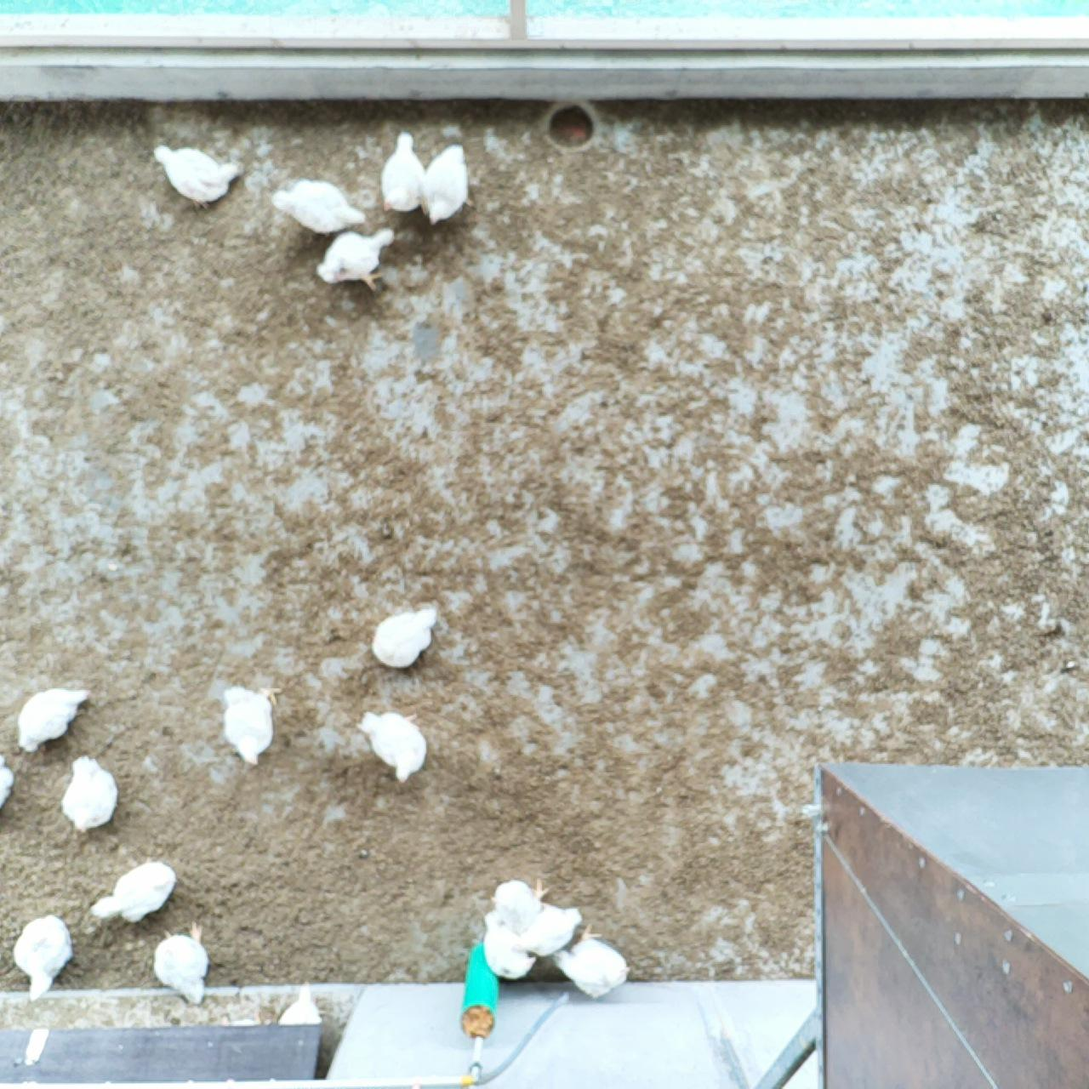chicken: (151, 143, 244, 212), (553, 924, 632, 1001), (11, 684, 97, 753), (89, 862, 181, 925), (11, 914, 75, 1004), (358, 707, 429, 788), (271, 178, 368, 237), (319, 222, 399, 293), (222, 683, 284, 770), (153, 921, 212, 1009), (60, 754, 120, 833), (422, 140, 474, 229), (481, 907, 542, 982), (371, 606, 438, 670), (512, 903, 586, 959), (381, 130, 428, 216), (489, 876, 552, 938), (0, 750, 15, 823)
